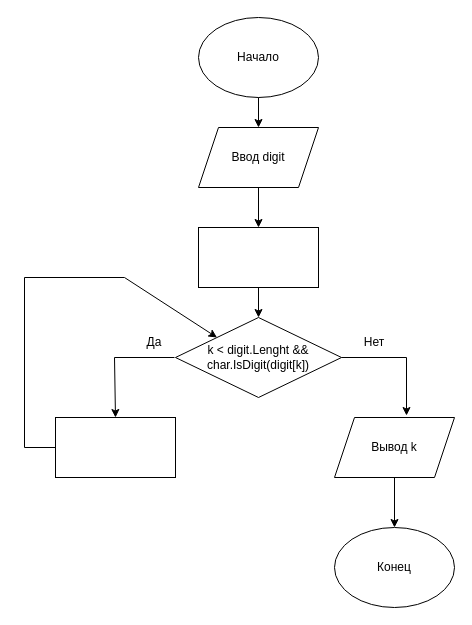
This 472x625 diagram has some shape labels left out. Here are the shapes that lost their labels. From the top down, the box of each, then its label:
(198, 226, 318, 288): k = 0
(54, 416, 176, 478): k ++
